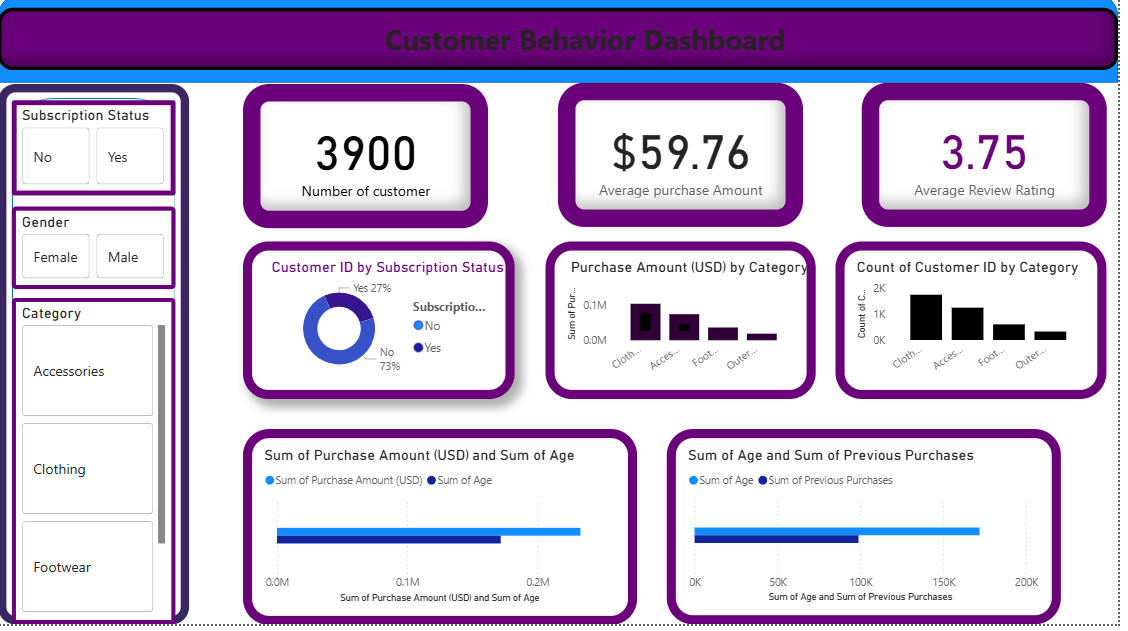

What the dashboard file says about the page in this screenshot:
{"tool":"powerbi","page":{"name":"Page 1","canvas":[1280,720],"ordinal":0},"visuals":[{"type":"card","fields":{"Values":["data csv.Number of customer"]},"box":[280,102.7,280,165.1],"z":1},{"type":"card","fields":{"Values":["data csv.Average Review Rating"]},"box":[986.8,101.5,280,165.1],"z":2},{"type":"card","fields":{"Values":["data csv.Average purchase Amount"]},"box":[639.5,101.5,280,165.1],"z":3},{"type":"shape","box":[0,0,1280.3,101.5],"z":4},{"type":"textbox","box":[0,15.1,1280.3,71.4],"z":5},{"type":"donutChart","title":" Customer ID by Subscription Status","fields":{"Category":["data csv.Subscription Status"],"Y":["CountNonNull(data csv.Customer ID)"]},"box":[280,282.9,310,180],"z":7},{"type":"lineClusteredColumnComboChart","title":" Purchase Amount (USD) by Category","fields":{"Y":["Sum(data csv.Purchase Amount (USD))"],"Category":["data csv.Category"]},"box":[625.7,282.9,308.6,180],"z":8},{"type":"lineClusteredColumnComboChart","fields":{"Category":["data csv.Category"],"Y":["CountNonNull(data csv.Customer ID)"]},"box":[957.5,282.5,309.4,179.8],"z":9},{"type":"shape","box":[0,102.9,218.2,617.5],"z":10},{"type":"advancedSlicerVisual","fields":{"Values":["data csv.Subscription Status"]},"box":[15.7,121.4,187.1,108.6],"z":11},{"type":"advancedSlicerVisual","fields":{"Values":["data csv.Gender"]},"box":[15.7,242.9,187.1,94.3],"z":12},{"type":"advancedSlicerVisual","fields":{"Values":["data csv.Category"]},"box":[15.7,347.1,187.1,372.9],"z":13},{"type":"clusteredBarChart","fields":{"Y":["Sum(data csv.Purchase Amount (USD))","Sum(data csv.Age)"]},"box":[280,496.5,450,223.8],"z":14},{"type":"clusteredBarChart","fields":{"Y":["Sum(data csv.Age)","Sum(data csv.Previous Purchases)"]},"box":[764.3,497.1,450,222.9],"z":15}]}

Visuals, with their boxes in screenshot pixels (x1, y1, x2, y2), scaled from the page's 1280x720 canvas onto the 1128x631 screenshot:
card - data csv.Number of customer: select_region(247, 90, 494, 235)
card - data csv.Average Review Rating: select_region(870, 89, 1116, 234)
card - data csv.Average purchase Amount: select_region(564, 89, 810, 234)
shape: select_region(0, 0, 1127, 89)
textbox: select_region(0, 13, 1127, 76)
" Customer ID by Subscription Status" donutChart: select_region(247, 248, 520, 406)
" Purchase Amount (USD) by Category" lineClusteredColumnComboChart: select_region(551, 248, 823, 406)
lineClusteredColumnComboChart - data csv.Category x CountNonNull(data csv.Customer ID): select_region(844, 248, 1116, 405)
shape: select_region(0, 90, 192, 630)
advancedSlicerVisual - data csv.Subscription Status: select_region(14, 106, 179, 202)
advancedSlicerVisual - data csv.Gender: select_region(14, 213, 179, 296)
advancedSlicerVisual - data csv.Category: select_region(14, 304, 179, 630)
clusteredBarChart - Sum(data csv.Purchase Amount (USD)) x Sum(data csv.Age): select_region(247, 435, 643, 630)
clusteredBarChart - Sum(data csv.Age) x Sum(data csv.Previous Purchases): select_region(674, 436, 1070, 630)
